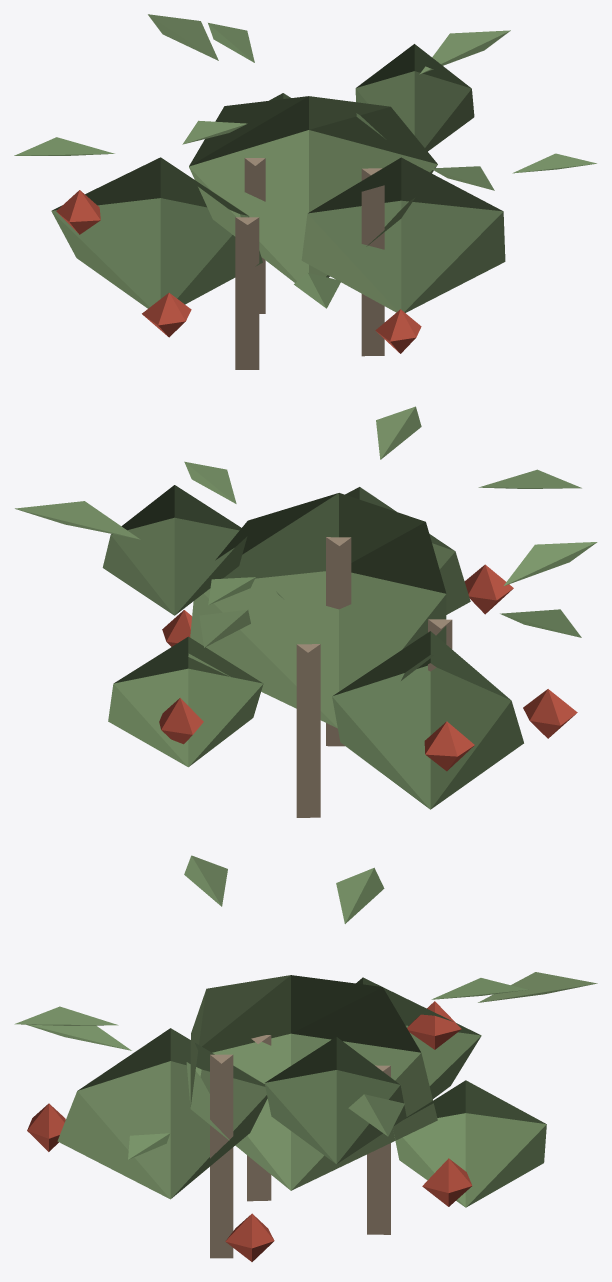
Rendered from guan.dujuan@fruiting__summer.glb.
3 renders of one model, top to bottom at view 1: azimuth 30°, elevation 25°; view 2: azimuth 150°, elevation 25°; view 3: azimuth 270°, elevation 25°, orthographic. The views are drawn at different scales.
Parts seen in each view (by area): view 1: guan.dujuan@fruiting__summer; view 2: guan.dujuan@fruiting__summer; view 3: guan.dujuan@fruiting__summer.
Boxes of the visible parts, <box> form: guan.dujuan@fruiting__summer: <box>14,14,596,369</box>; guan.dujuan@fruiting__summer: <box>15,406,597,817</box>; guan.dujuan@fruiting__summer: <box>14,855,597,1261</box>.
Size of the model in its own units: 2.66 by 1.4 by 2.46.
